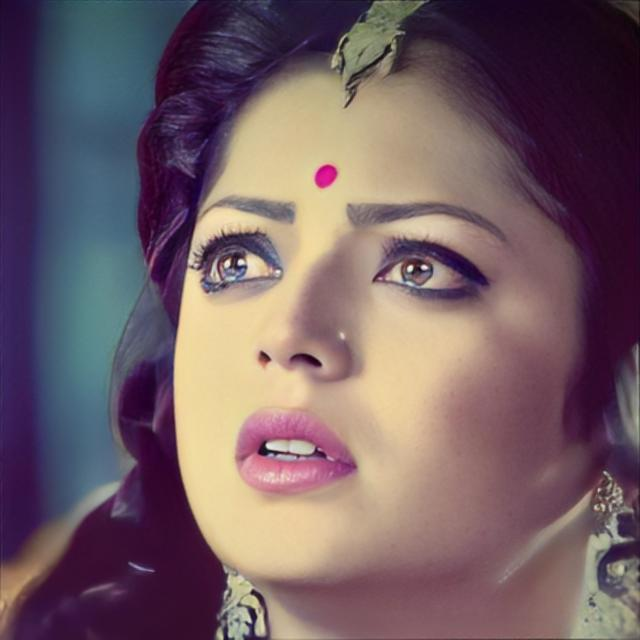fear: (174, 77, 572, 588)
